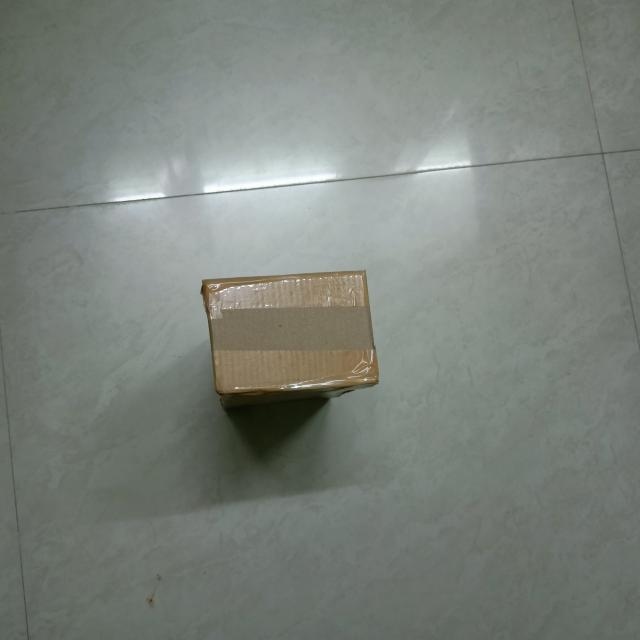box: (207, 271, 379, 392)
